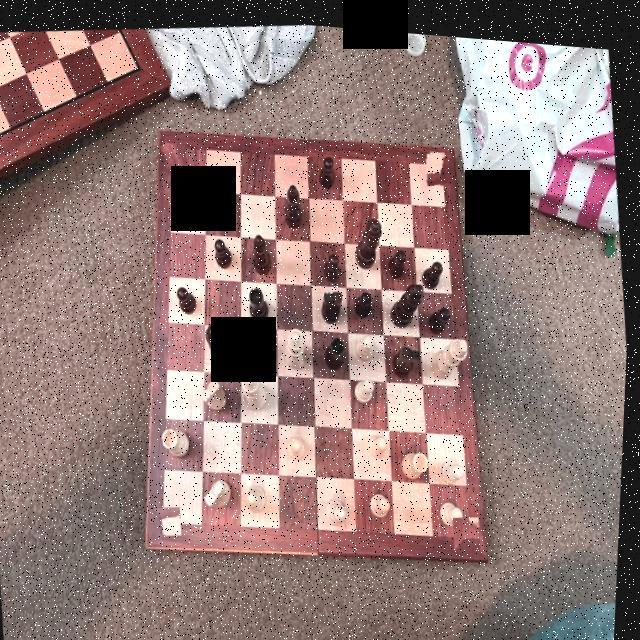chess-table-corners: (426, 142, 456, 181), (456, 506, 486, 544), (153, 502, 187, 534), (160, 136, 190, 172)
